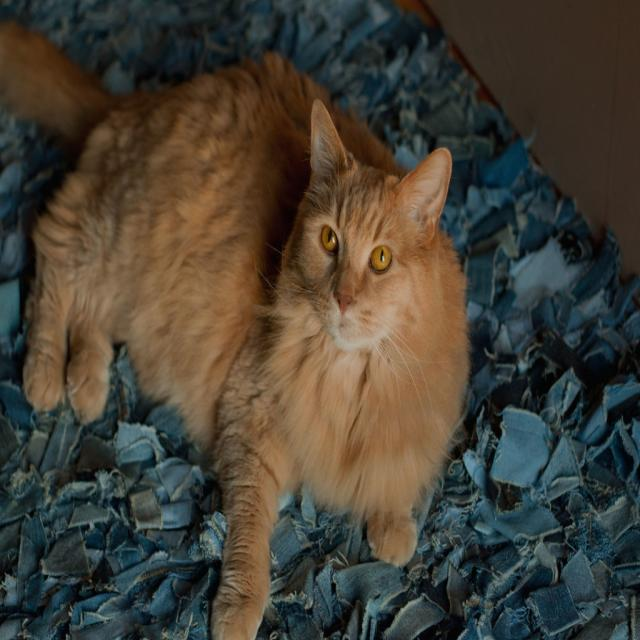Cat: (20, 54, 470, 638)
